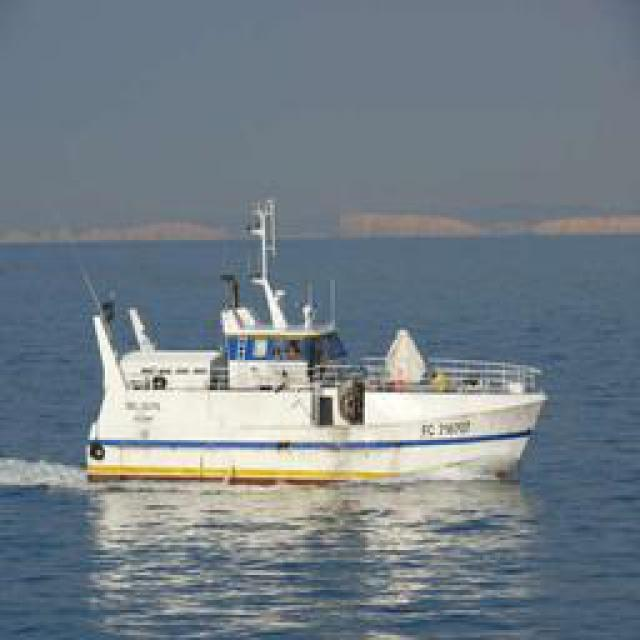Ship: (80, 231, 545, 486)
